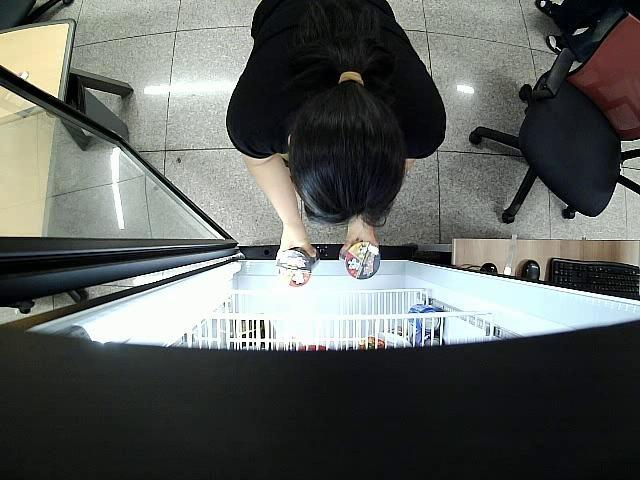08_buldak_S: (339, 241, 381, 279), (274, 248, 314, 286)
